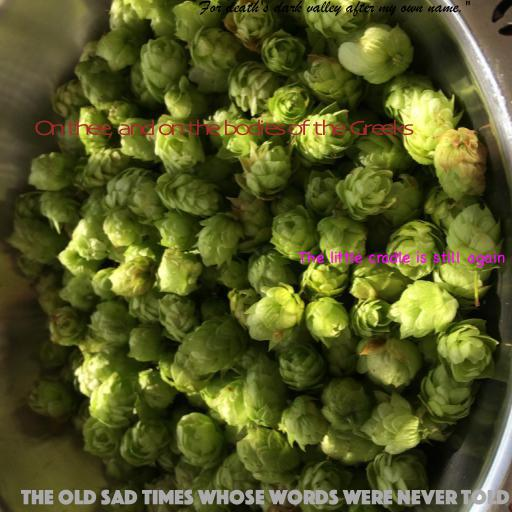Brush Script MT: (198, 0, 470, 17)
Chalkboard: (297, 251, 505, 268)
Phosphate: (20, 489, 510, 505)
Skia: (33, 119, 411, 138)
